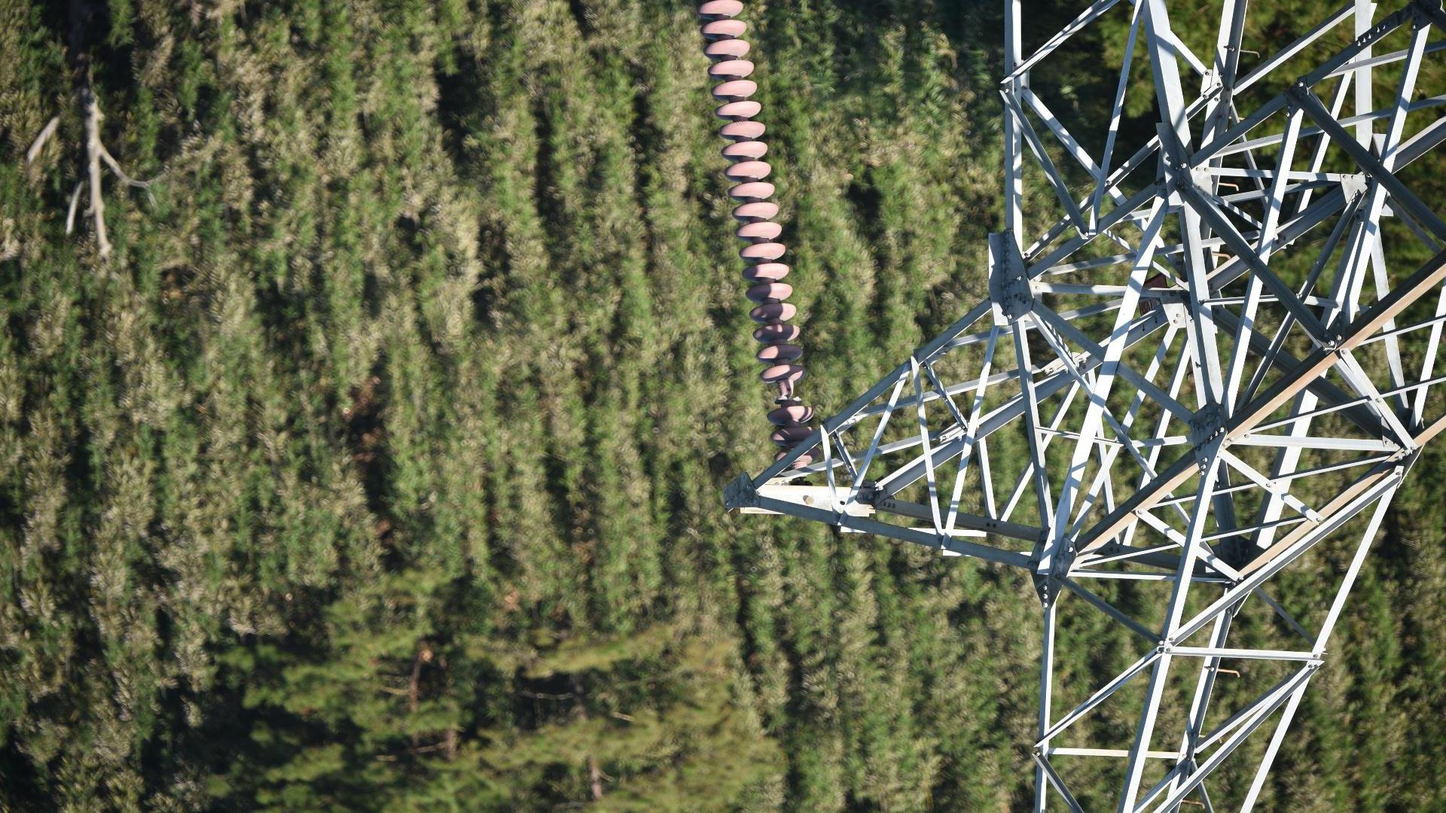insulator: (697, 1, 820, 472)
insulator_stringdrop: (757, 361, 817, 424)
